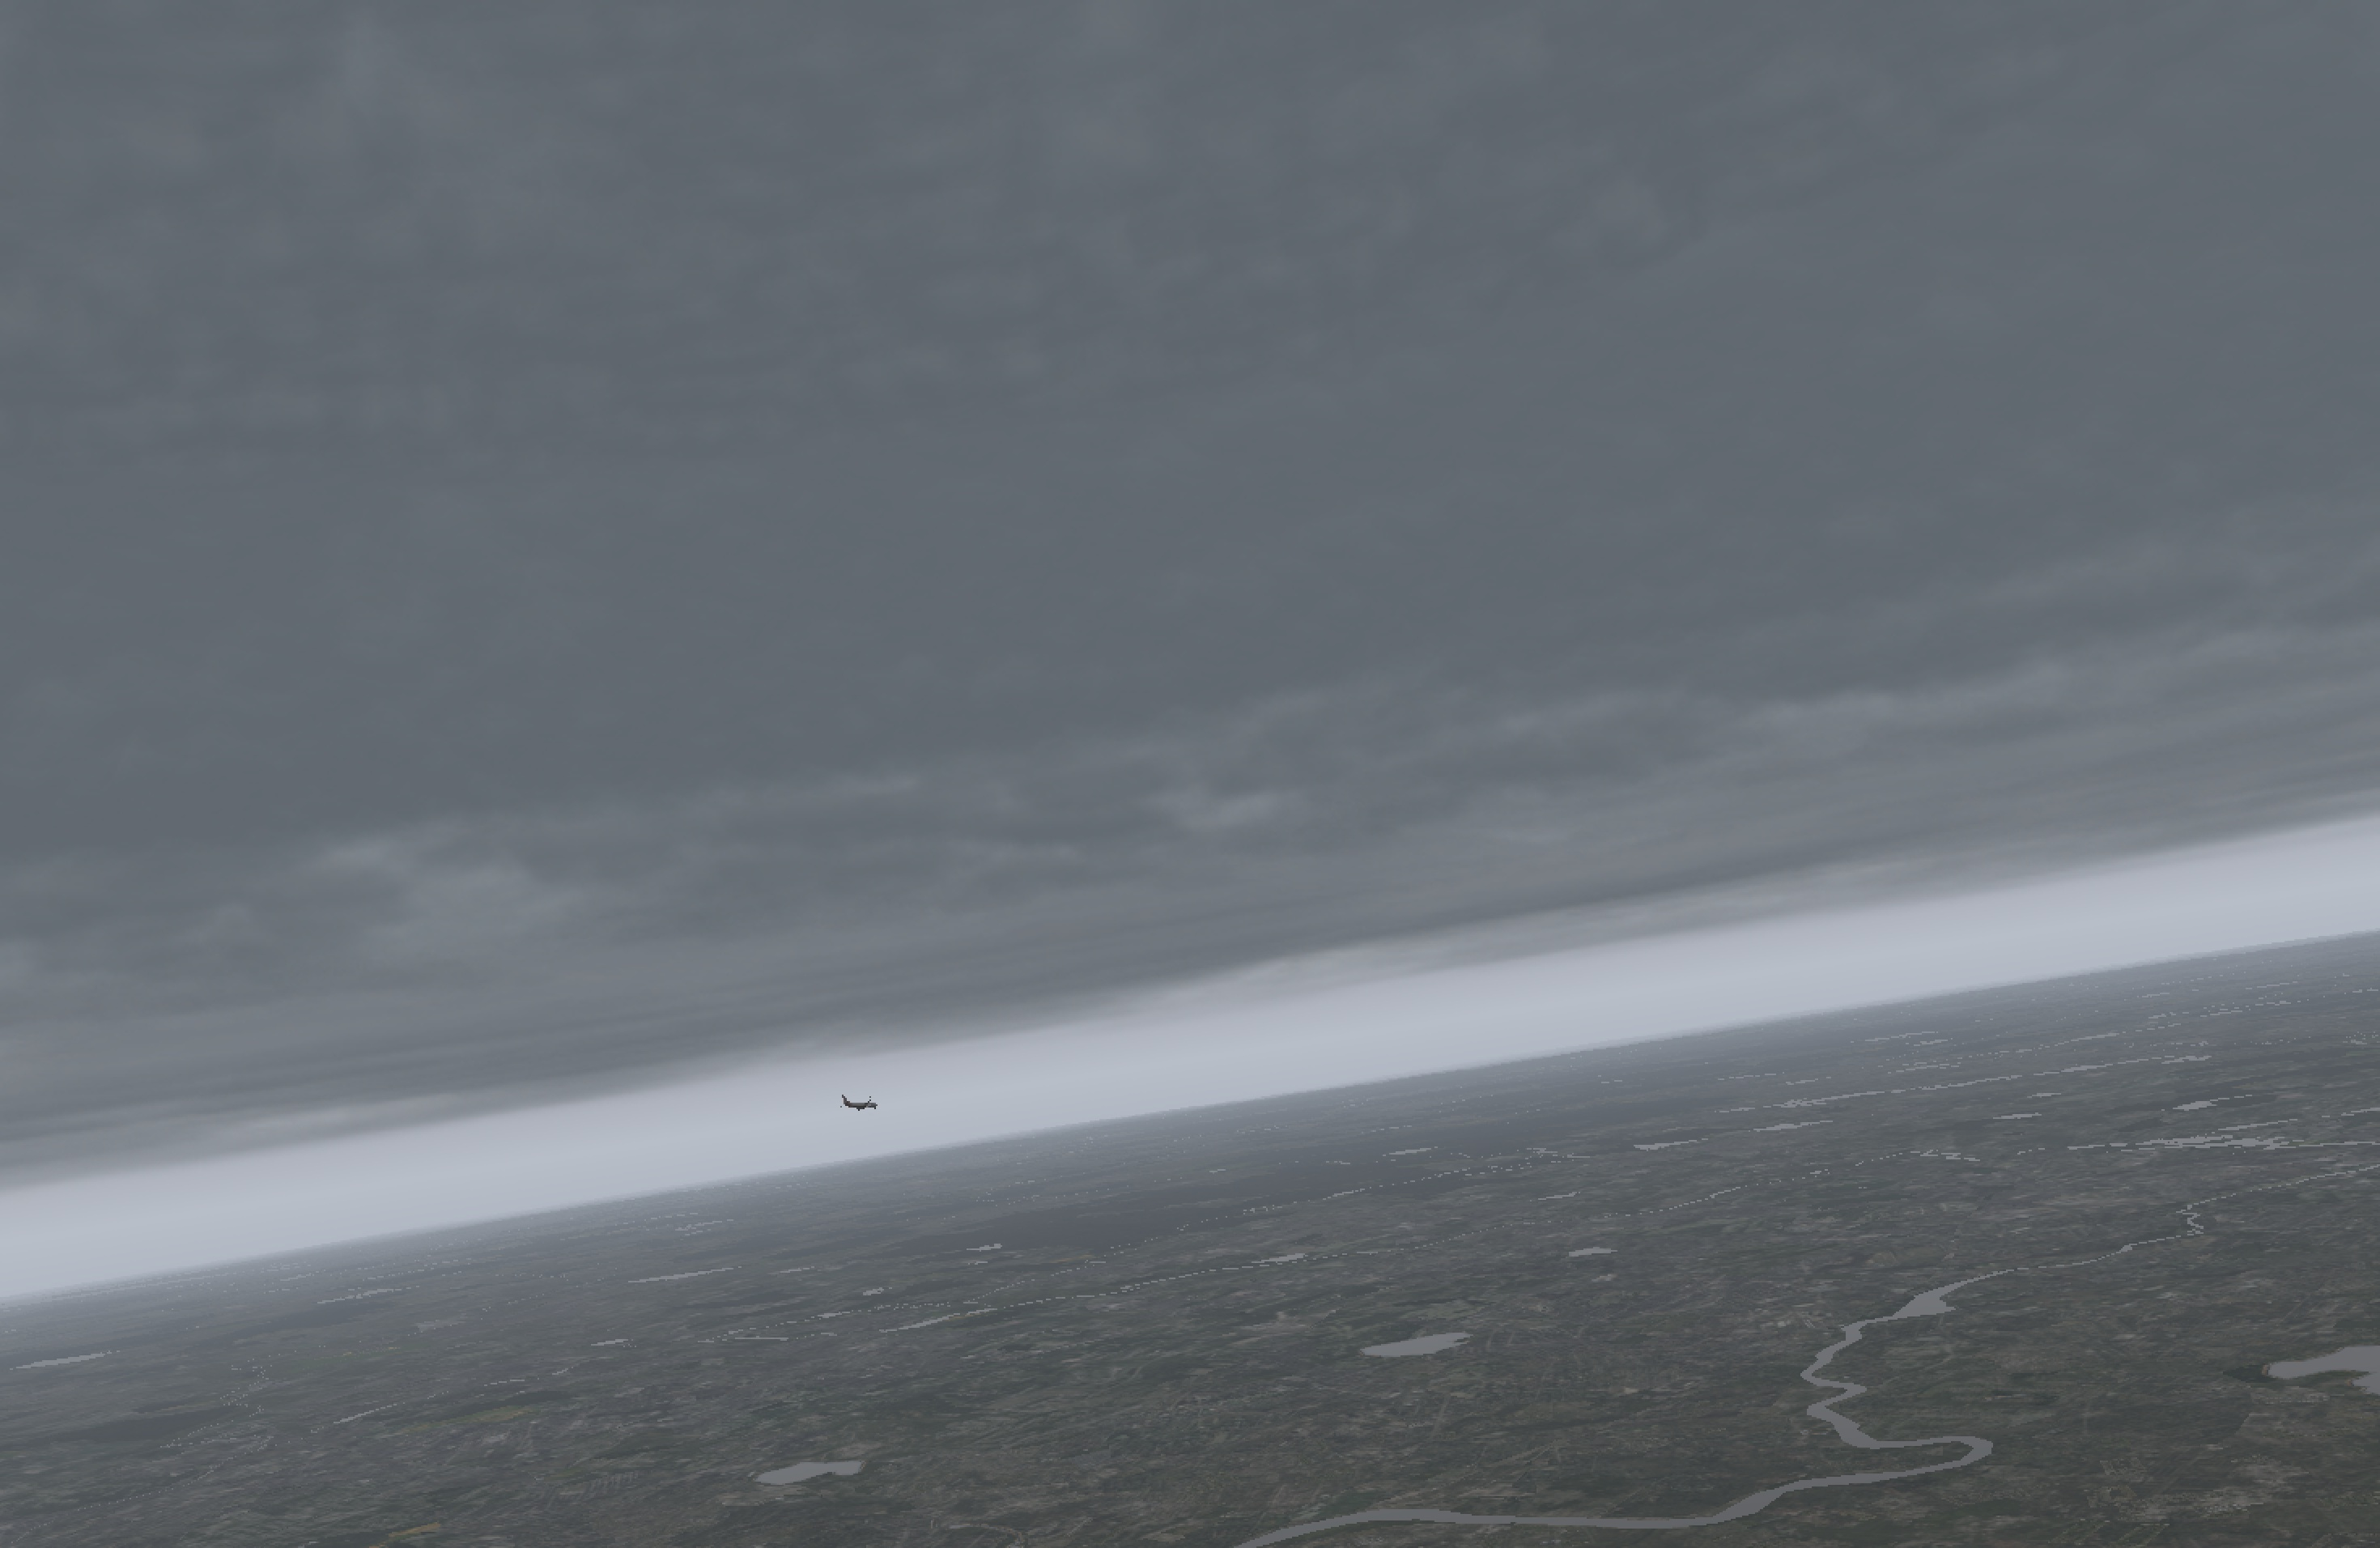aircraft: (838, 1097, 886, 1114)
